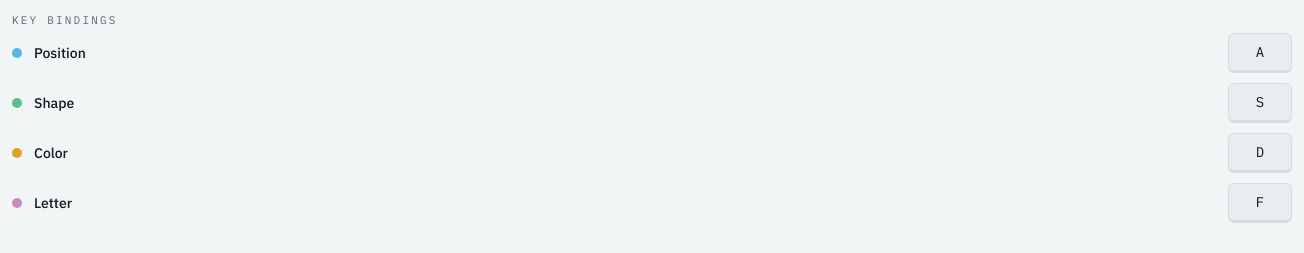
it: KeymapEditor › shows a listening prompt while waiting for a key
Click the button named "rebind shape": (1260, 102) x1=1228 y1=82 x2=1292 y2=122
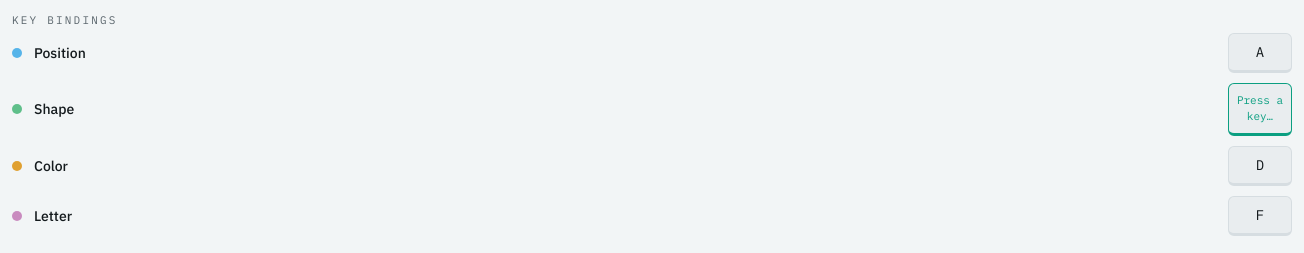
expect the button "Press a key…" is shown: met, box x1=1228 y1=82 x2=1292 y2=136
